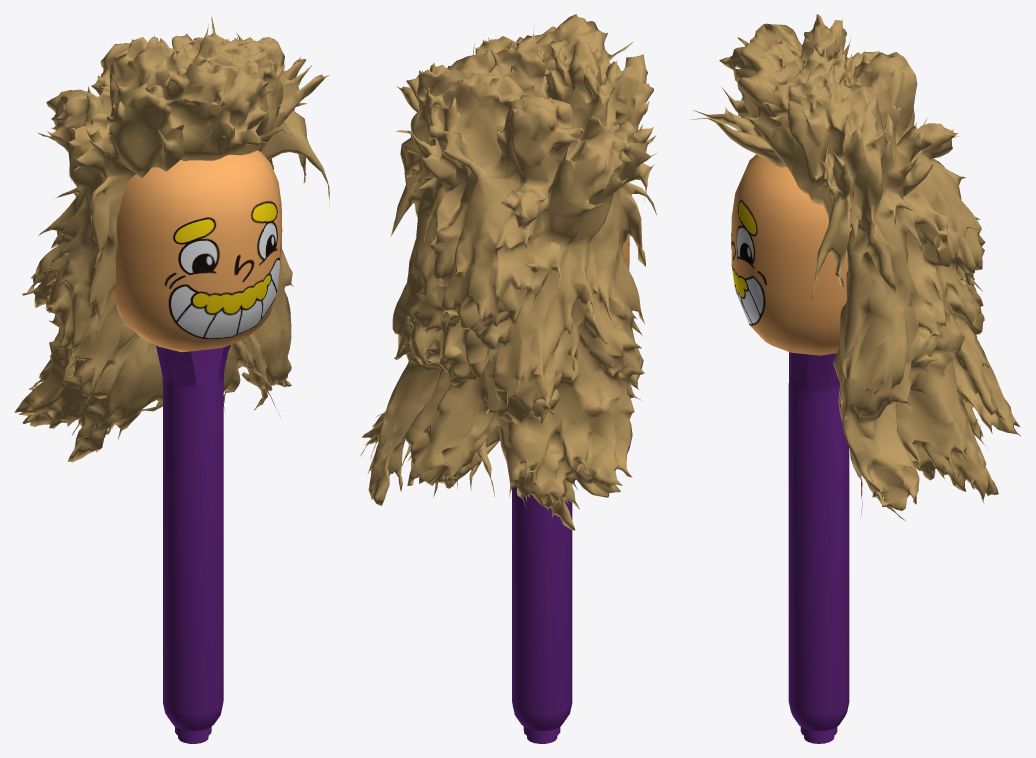
Rendered from micro.glb.
3 renders of one model, left to right at view 1: azimuth 30°, elevation 25°; view 2: azimuth 150°, elevation 25°; view 3: azimuth 270°, elevation 25°, orthographic.
Visible parts, largest first — view 1: hair, head, handle; view 2: hair, handle; view 3: hair, handle, head.
Boxes of the visible parts, box(x1,y1,x2,y2) form: hair: box(14, 16, 329, 462); head: box(112, 150, 282, 352); handle: box(156, 344, 230, 743); hair: box(360, 14, 657, 530); handle: box(512, 483, 572, 743); hair: box(691, 14, 1020, 520); handle: box(788, 352, 849, 743); head: box(731, 154, 851, 355).
Size of the model in its own units: 1.04 by 2.58 by 1.1.
Materials: 3 (1 with a texture image).
